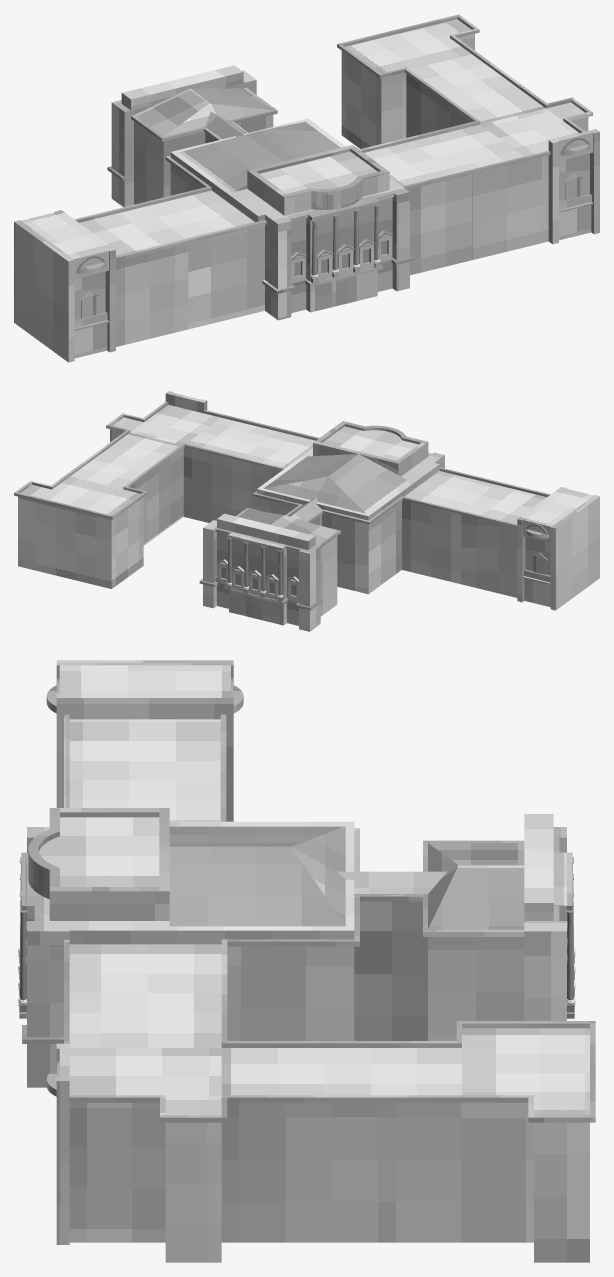
Rendered from rada.glb.
The picture shows the model from 3 angles, top to bottom: view 1: azimuth 30°, elevation 25°; view 2: azimuth 150°, elevation 25°; view 3: azimuth 270°, elevation 25°; orthographic projection. The views are drawn at different scales.
Parts seen in each view (by area): view 1: rada; view 2: rada; view 3: rada.
Boxes of the visible parts, bbox=[...] form: rada: bbox=[14, 14, 599, 362]; rada: bbox=[14, 391, 599, 631]; rada: bbox=[18, 660, 595, 1262].
Size of the model in its own units: 50.98 by 10.02 by 28.24.
3 materials, 3 textured.
